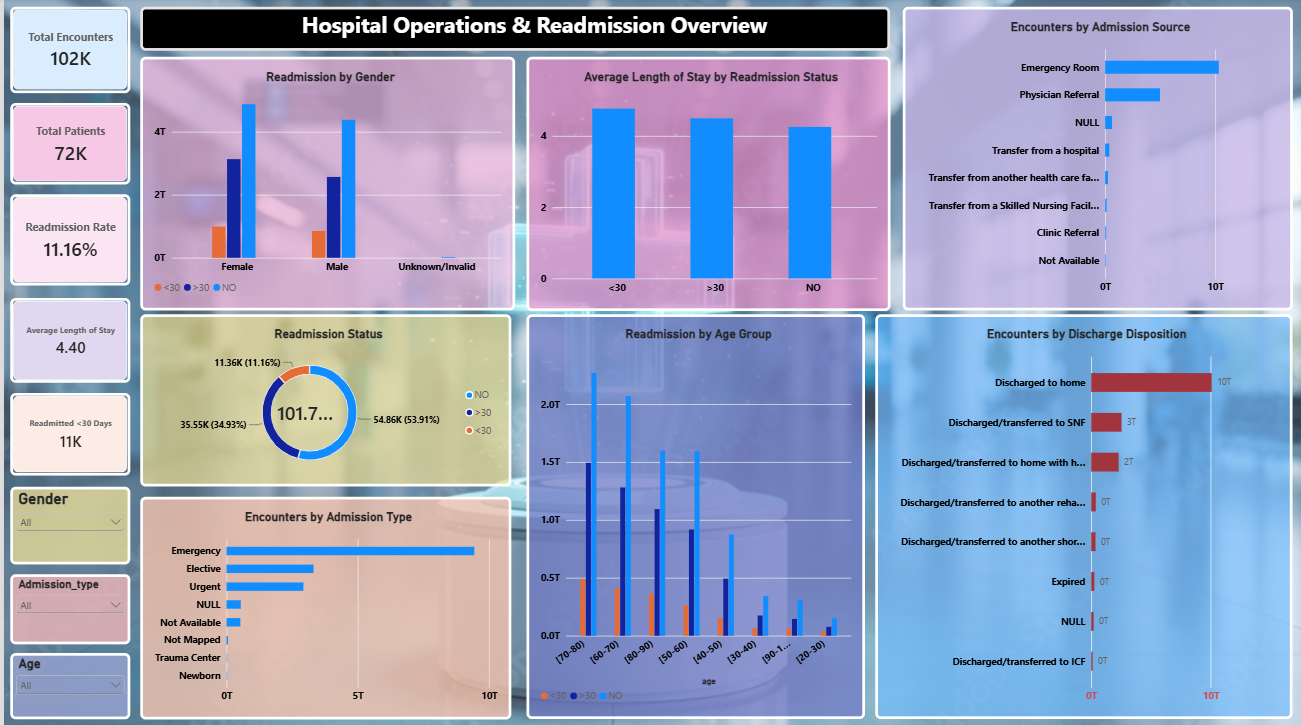

What the dashboard file says about the page in this screenshot:
{"tool":"powerbi","page":{"name":"Executive Overview","canvas":[1920,1080],"ordinal":0},"visuals":[{"type":"cardVisual","fields":{"Data":["diabetic_data.Total Encounters"]},"box":[9.2,12.9,176.7,127],"z":0},{"type":"cardVisual","fields":{"Data":["diabetic_data.Total Patients"]},"box":[9.2,154.6,176.7,119.6],"z":1000},{"type":"cardVisual","fields":{"Data":["diabetic_data.Readmitted <30 Days"]},"box":[9.2,581.6,176.7,121.5],"z":2000},{"type":"cardVisual","fields":{"Data":["diabetic_data.Readmission Rate"]},"box":[9.2,289,176.7,134.4],"z":3000},{"type":"cardVisual","fields":{"Data":["diabetic_data.Average Length of Stay"]},"box":[9.2,441.7,176.7,125.2],"z":4000},{"type":"donutChart","title":"Readmission Status","fields":{"Category":["diabetic_data.readmitted"],"Y":["CountNonNull(diabetic_data.encounter_id)"]},"box":[200.6,465.6,546.6,254],"z":5000},{"type":"clusteredColumnChart","title":"Readmission by Age Group","fields":{"Category":["diabetic_data.age"],"Series":["diabetic_data.readmitted"],"Y":["Sum(diabetic_data.encounter_id)"]},"box":[769.3,465.6,498.8,596.3],"z":6000},{"type":"clusteredColumnChart","title":"Readmission by Gender","fields":{"Category":["diabetic_data.gender"],"Series":["diabetic_data.readmitted"],"Y":["Sum(diabetic_data.encounter_id)"]},"box":[200.6,86.5,552.2,373.6],"z":7000},{"type":"clusteredColumnChart","title":"Average Length of Stay by Readmission Status","fields":{"Category":["diabetic_data.readmitted"],"Y":["diabetic_data.Average Length of Stay"]},"box":[769.3,86.5,536,374],"z":8000},{"type":"clusteredBarChart","title":"Encounters by Admission Type","fields":{"Category":["Dim_Admission_Type.admission_type"],"Y":["Sum(diabetic_data.encounter_id)"]},"box":[200.6,734.4,546.6,327.6],"z":9000},{"type":"clusteredBarChart","title":"Encounters by Discharge Disposition","fields":{"Category":["Dim_Discharge.discharge_disposition"],"Y":["Sum(diabetic_data.encounter_id)"]},"box":[1282.8,465.6,614.7,596.3],"z":10000},{"type":"clusteredBarChart","title":"Encounters by Admission Source","fields":{"Category":["Dim_Admission_Source.admission_source"],"Y":["Sum(diabetic_data.encounter_id)"]},"box":[1323.3,12.9,574.2,447.2],"z":11000},{"type":"slicer","fields":{"Values":["Dim_Age.age"]},"box":[9.2,964.4,176.7,97.5],"z":12000},{"type":"slicer","fields":{"Values":["diabetic_data.gender"]},"box":[9.2,719.6,176.7,114.1],"z":13000},{"type":"slicer","fields":{"Values":["Dim_Admission_Type.admission_type"]},"box":[9.2,848.5,176.7,103.1],"z":14000},{"type":"textbox","box":[200.6,12.9,1104.3,64.4],"z":15000}]}

Visuals, with their boxes in screenshot pixels (x1, y1, x2, y2), scaled from the page's 1920x1080 canvas onto the 1301x725 screenshot:
cardVisual - diabetic_data.Total Encounters: 6/9/126/94
cardVisual - diabetic_data.Total Patients: 6/104/126/184
cardVisual - diabetic_data.Readmitted <30 Days: 6/390/126/472
cardVisual - diabetic_data.Readmission Rate: 6/194/126/284
cardVisual - diabetic_data.Average Length of Stay: 6/297/126/381
"Readmission Status" donutChart: 136/313/506/483
"Readmission by Age Group" clusteredColumnChart: 521/313/859/713
"Readmission by Gender" clusteredColumnChart: 136/58/510/309
"Average Length of Stay by Readmission Status" clusteredColumnChart: 521/58/884/309
"Encounters by Admission Type" clusteredBarChart: 136/493/506/713
"Encounters by Discharge Disposition" clusteredBarChart: 869/313/1286/713
"Encounters by Admission Source" clusteredBarChart: 897/9/1286/309
slicer - Dim_Age.age: 6/647/126/713
slicer - diabetic_data.gender: 6/483/126/560
slicer - Dim_Admission_Type.admission_type: 6/570/126/639
textbox: 136/9/884/52
